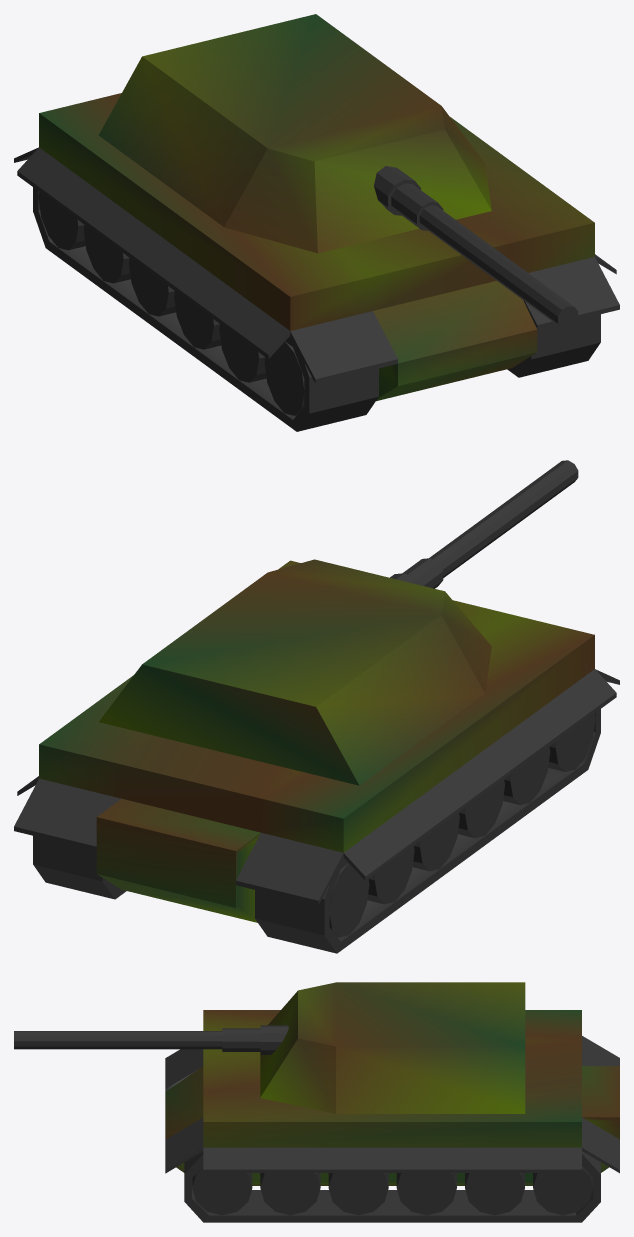
The model's file is Tank.fbx.
3 views of the same model, one above another, from view 1: azimuth 30°, elevation 25°; view 2: azimuth 150°, elevation 25°; view 3: azimuth 270°, elevation 25° (orthographic). The views are drawn at different scales.
Visible parts, largest first — view 1: Tank, Turret; view 2: Tank, Turret; view 3: Tank, Turret.
Boxes of the visible parts, x1,y1,x2,y2 form: Tank: [14, 93, 619, 431]; Turret: [98, 14, 578, 328]; Tank: [14, 560, 619, 953]; Turret: [99, 460, 578, 785]; Tank: [165, 1010, 619, 1222]; Turret: [14, 982, 525, 1113].
Bounding box in the file's own units: 160 × 90 × 320.
